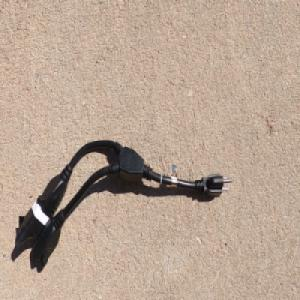Wire: (14, 138, 234, 269)
